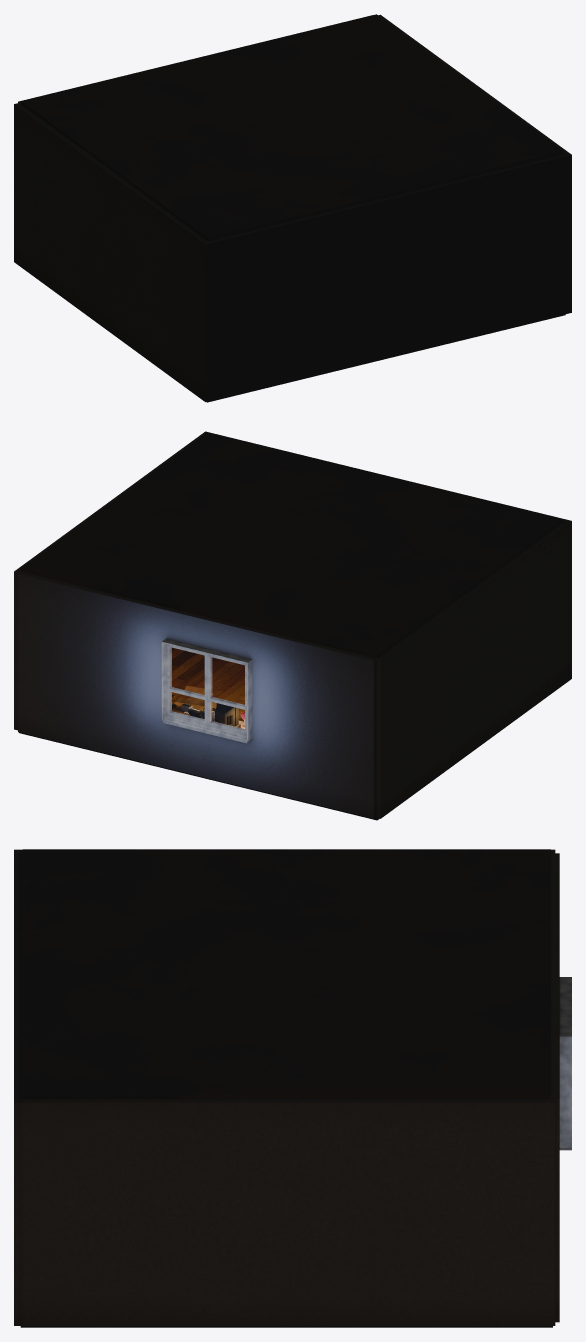
Rendered from sakina-room-agx2.glb.
The picture shows the model from 3 angles, top to bottom: view 1: azimuth 30°, elevation 25°; view 2: azimuth 150°, elevation 25°; view 3: azimuth 270°, elevation 25°; orthographic projection. The views are drawn at different scales.
Visible parts, largest first — view 1: Room_Shell; view 2: Room_Shell, Room_Window, Room_Floor; view 3: Room_Shell, Room_Window.
Boxes of the visible parts, x1,y1,x2,y2 form: Room_Shell: [14, 14, 571, 402]; Room_Shell: [14, 431, 571, 820]; Room_Window: [161, 638, 252, 743]; Room_Floor: [172, 647, 244, 721]; Room_Shell: [14, 849, 559, 1327]; Room_Window: [559, 977, 571, 1150].
Bounding box in the file's own units: 6.8 × 2.91 × 6.34.
12 materials, 12 textured.
